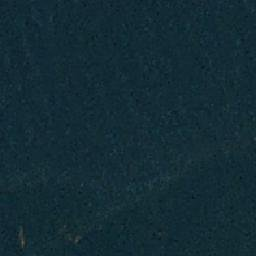debris: (13, 223, 27, 248)
